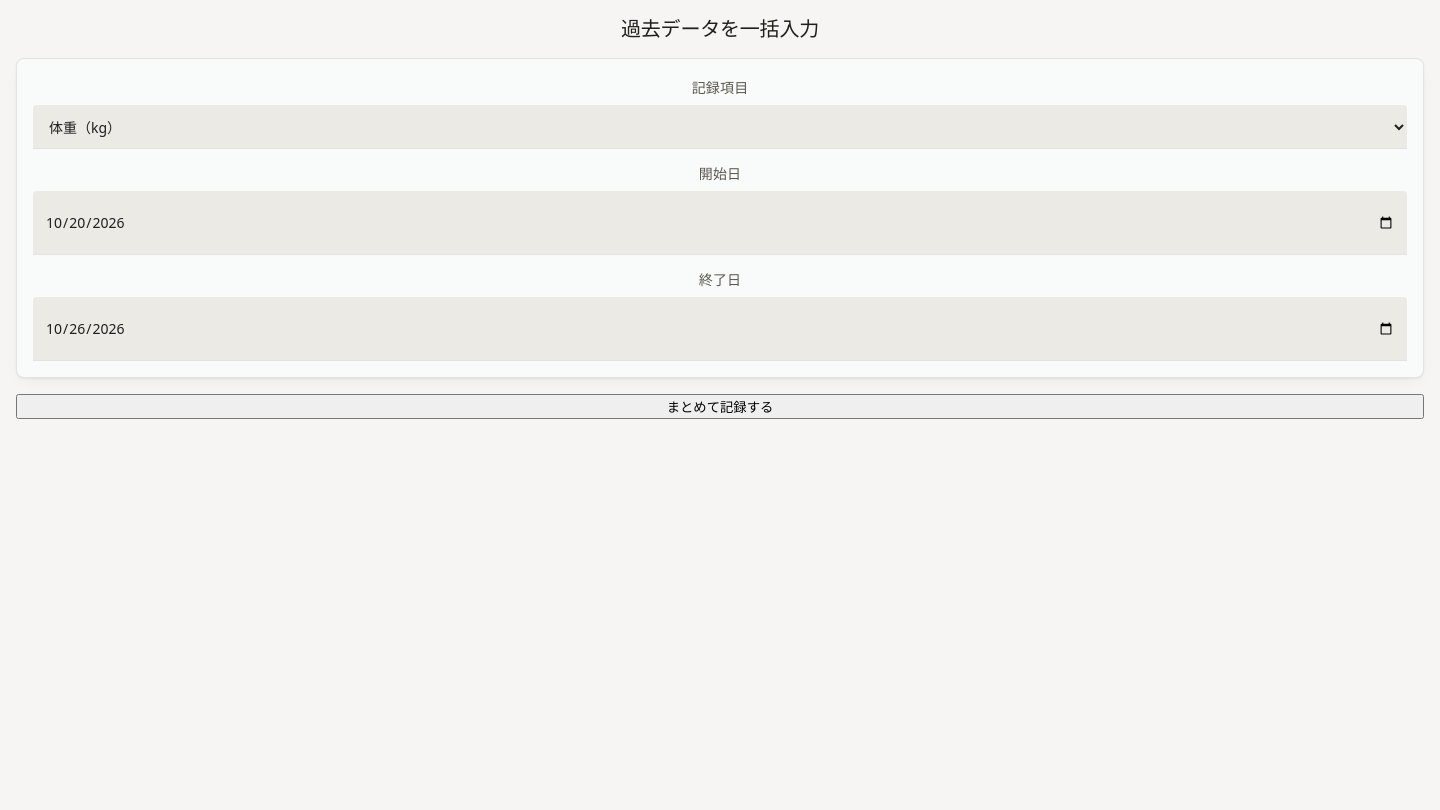
BulkEntryScreen › switches the pre-filled values when a different metric is selected
Expected: the dropdown named "一括入力する記録項目" shows "体重（kg）", [33, 105, 1407, 149]
Step 1. Type "2026-07-01" into the date field named "一括入力の開始日" → (720, 223), box [33, 191, 1407, 255]
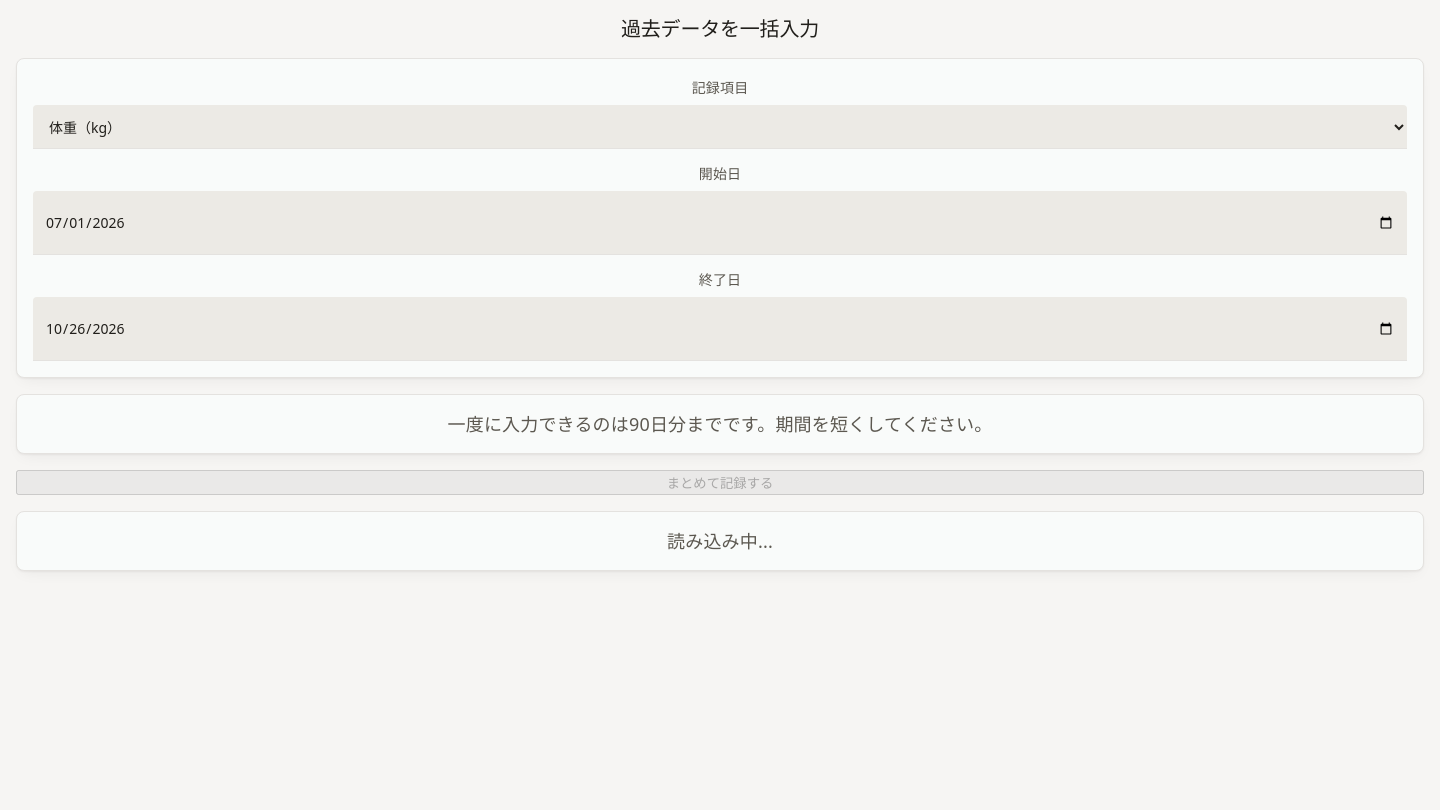
Step 2. Type "2026-07-01" into the date field named "一括入力の終了日" → (720, 329), box [33, 297, 1407, 361]
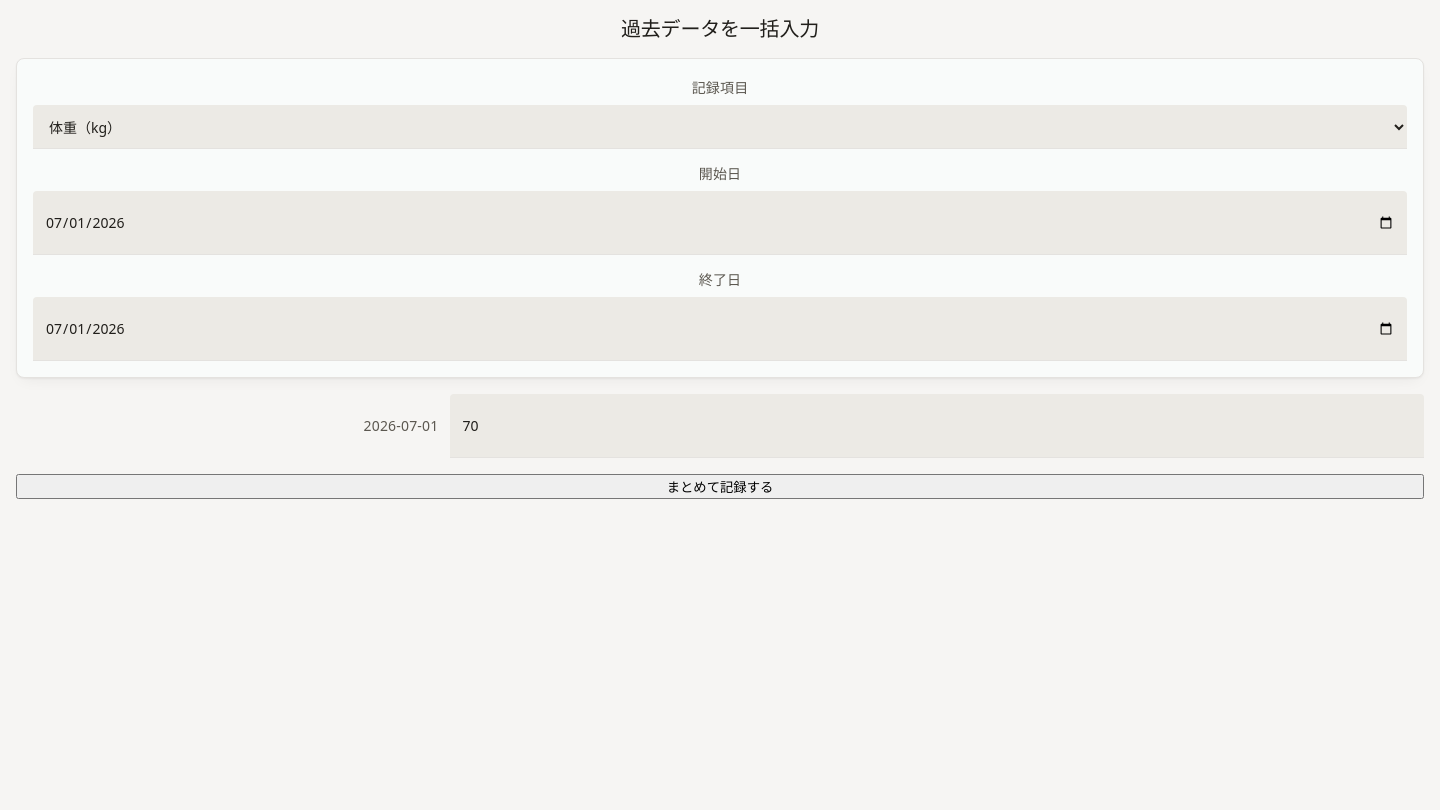
Expected: the number field named "2026-07-01 の記録" holds "70", [450, 394, 1424, 457]
Step 3. Select "腹筋（回）" in the dropdown named "一括入力する記録項目" → (720, 127), box [33, 105, 1407, 149]
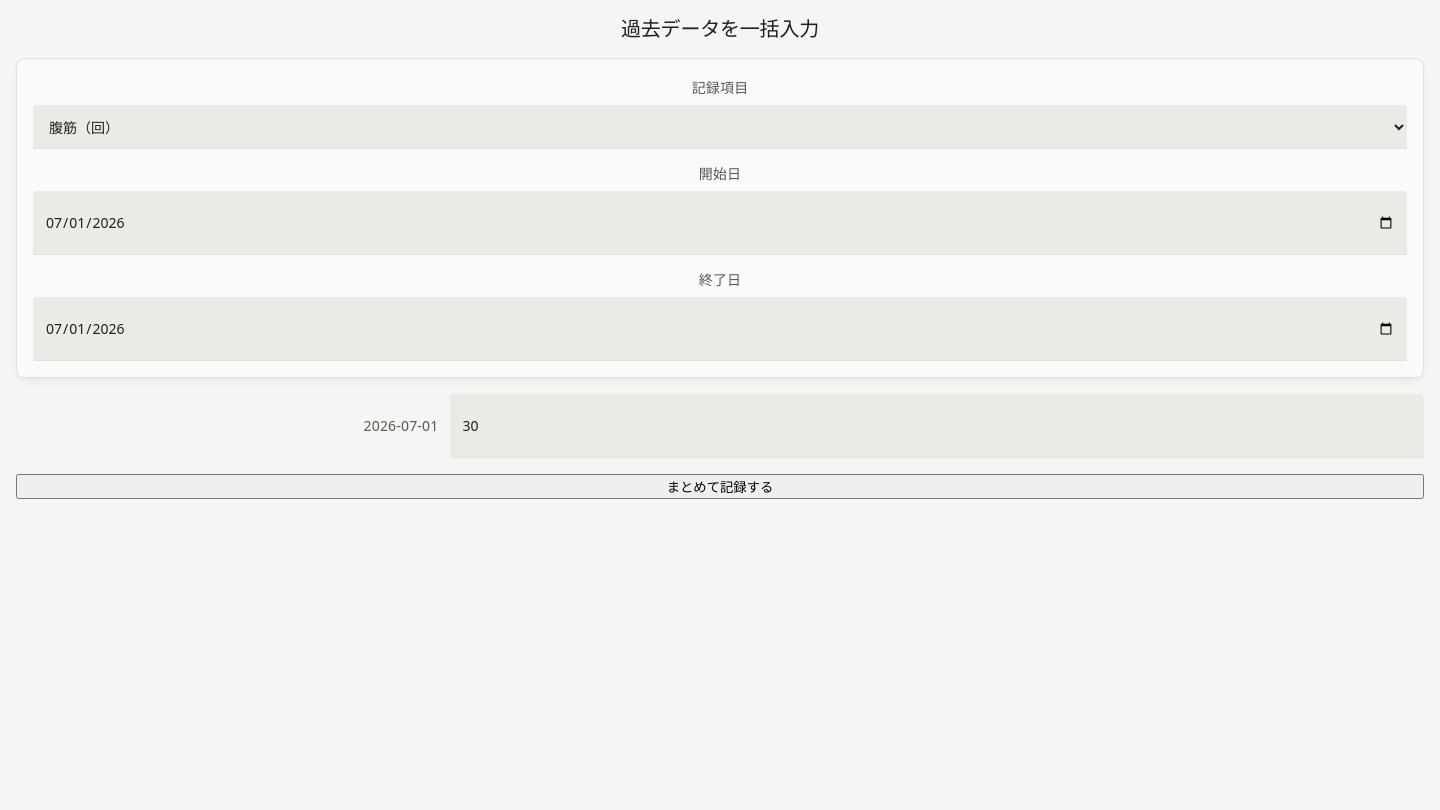
Expected: the number field named "2026-07-01 の記録" holds "30", [450, 394, 1424, 457]
